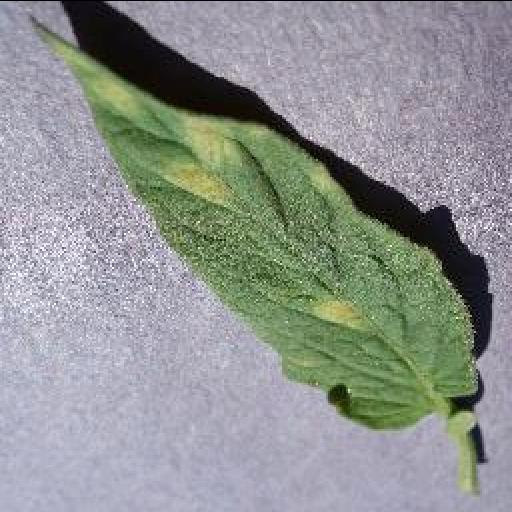disease_tomato: (22, 16, 478, 428)
